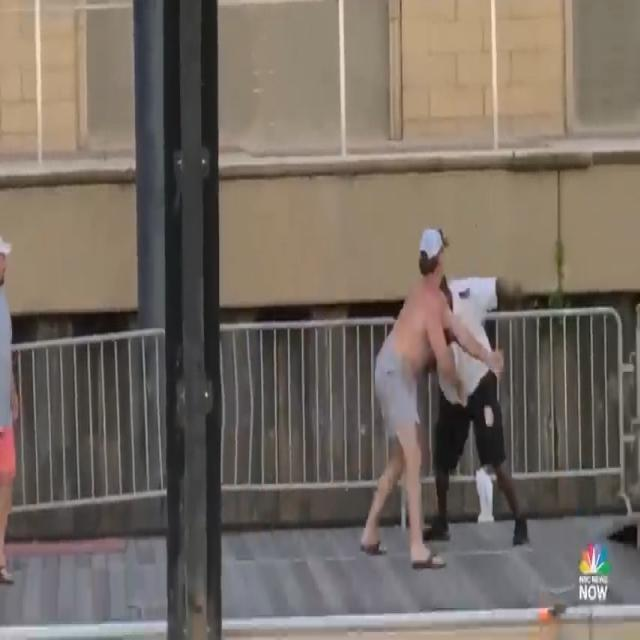fight: (356, 218, 531, 574)
non-fight: (0, 231, 21, 597)
